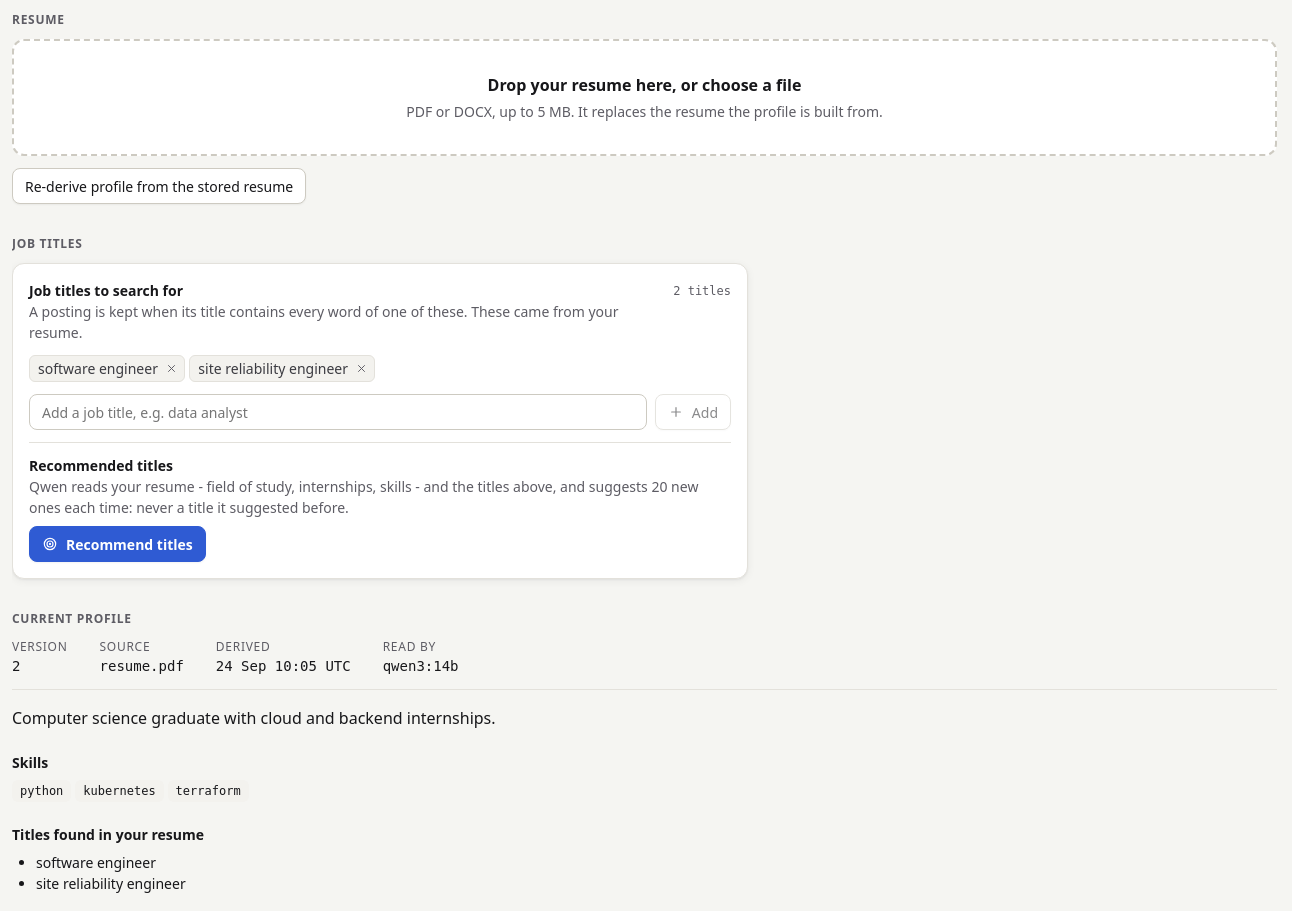
Test: Profile tab: uploading a resume › the refresh button re-derives from the stored resume without an upload
Click the button with class "refresh".
click(159, 186)  # box x1=12 y1=168 x2=306 y2=204
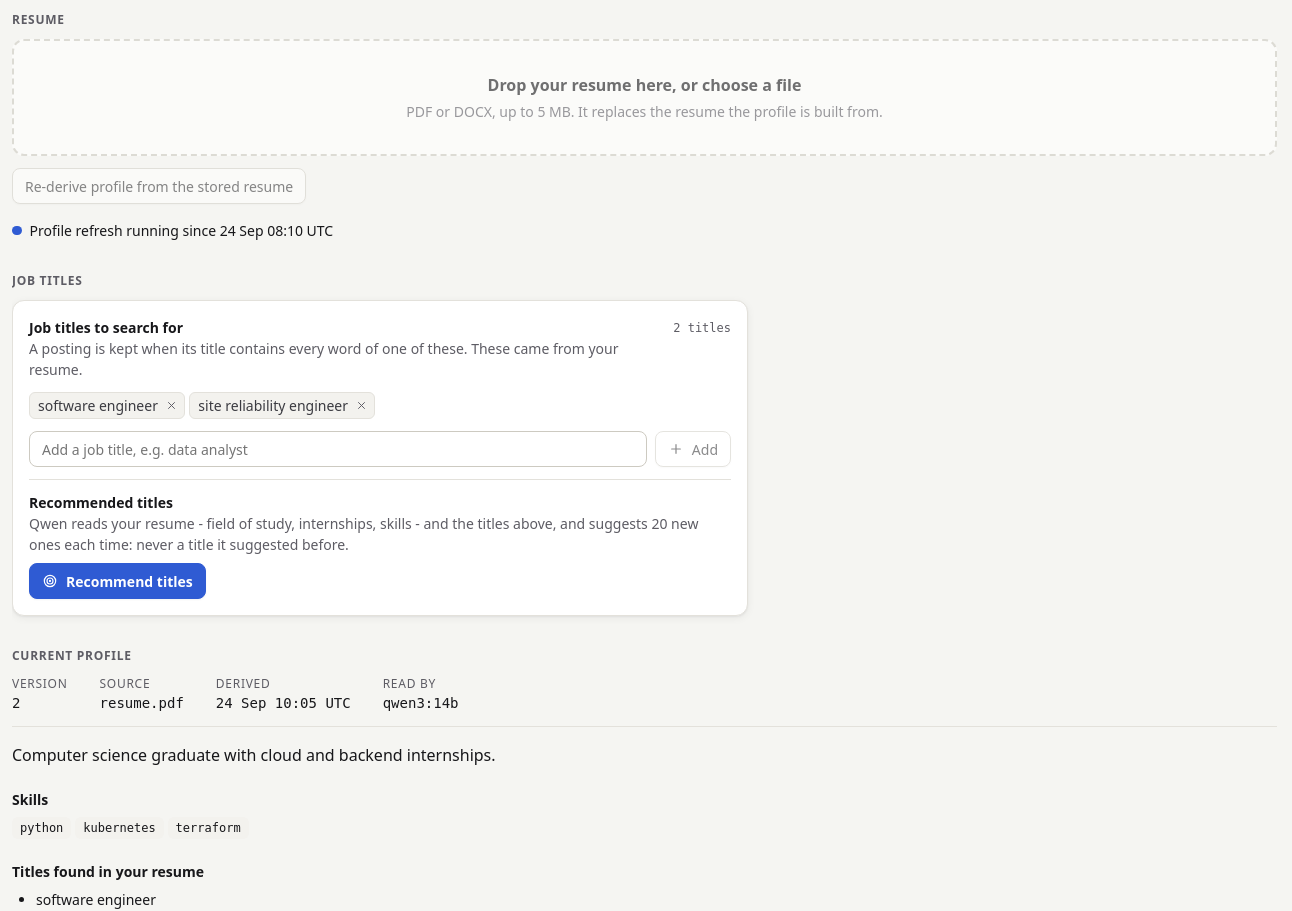
Result: the button with class "refresh" is disabled at x1=12 y1=168 x2=306 y2=204
